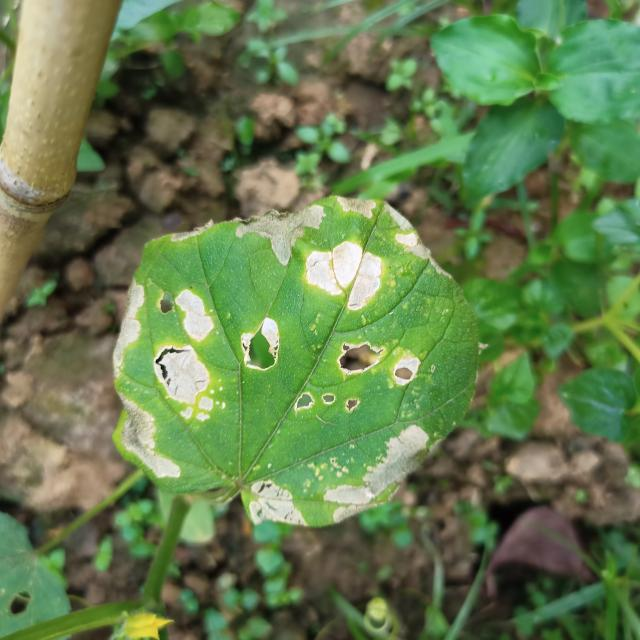disease_cucumber: (228, 324, 459, 528), (107, 278, 285, 477), (214, 188, 454, 315)
